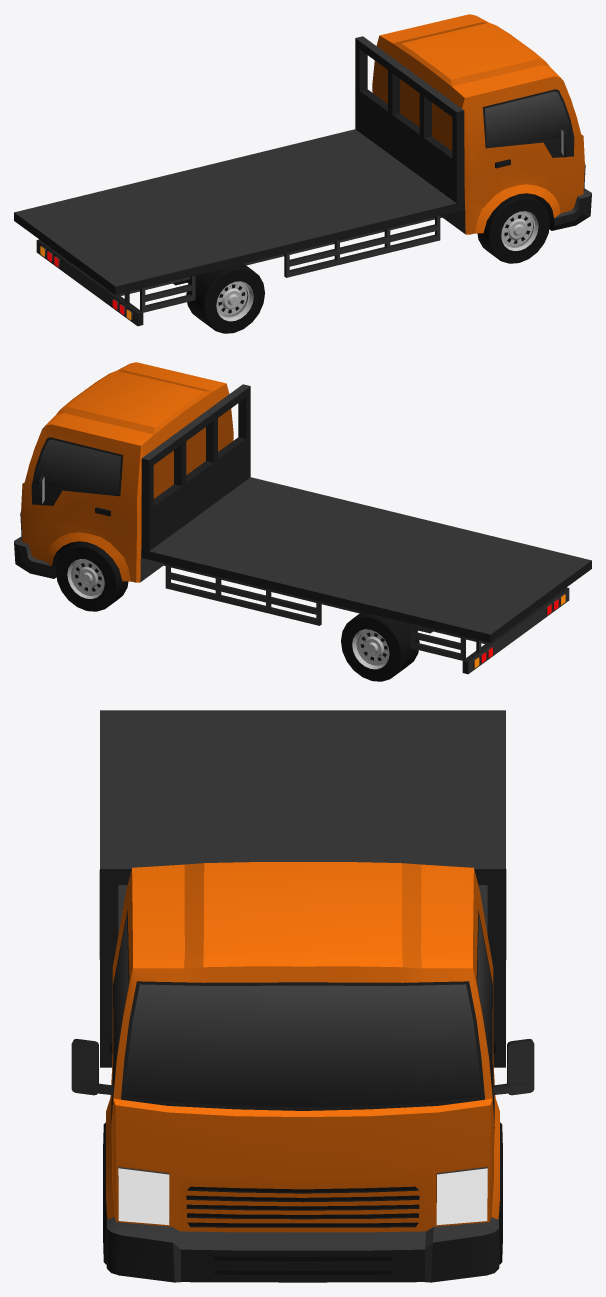
Rendered from Truck_021.glb.
The picture shows the model from 3 angles, top to bottom: view 1: azimuth 30°, elevation 25°; view 2: azimuth 150°, elevation 25°; view 3: azimuth 270°, elevation 25°; orthographic projection. The views are drawn at different scales.
Visible parts, largest first — view 1: Truck_021, wheel_3_Truck_021_Wheel_2R, wheel_1_Truck_021_Wheel_1R; view 2: Truck_021, wheel_2_Truck_021_Wheel_2L, wheel_0_Truck_021_Wheel_1L; view 3: Truck_021.
Part boxes in pixels (left/top/right/bottom): Truck_021: left=14, top=14, right=591, bottom=326; wheel_3_Truck_021_Wheel_2R: left=186, top=264, right=264, bottom=333; wheel_1_Truck_021_Wheel_1R: left=477, top=193, right=549, bottom=263; Truck_021: left=14, top=362, right=591, bottom=674; wheel_2_Truck_021_Wheel_2L: left=341, top=612, right=419, bottom=681; wheel_0_Truck_021_Wheel_1L: left=56, top=541, right=128, bottom=611; Truck_021: left=71, top=710, right=534, bottom=1282.
Size of the model in its own units: 6.05 by 2.11 by 2.51.
3 materials, 3 textured.
